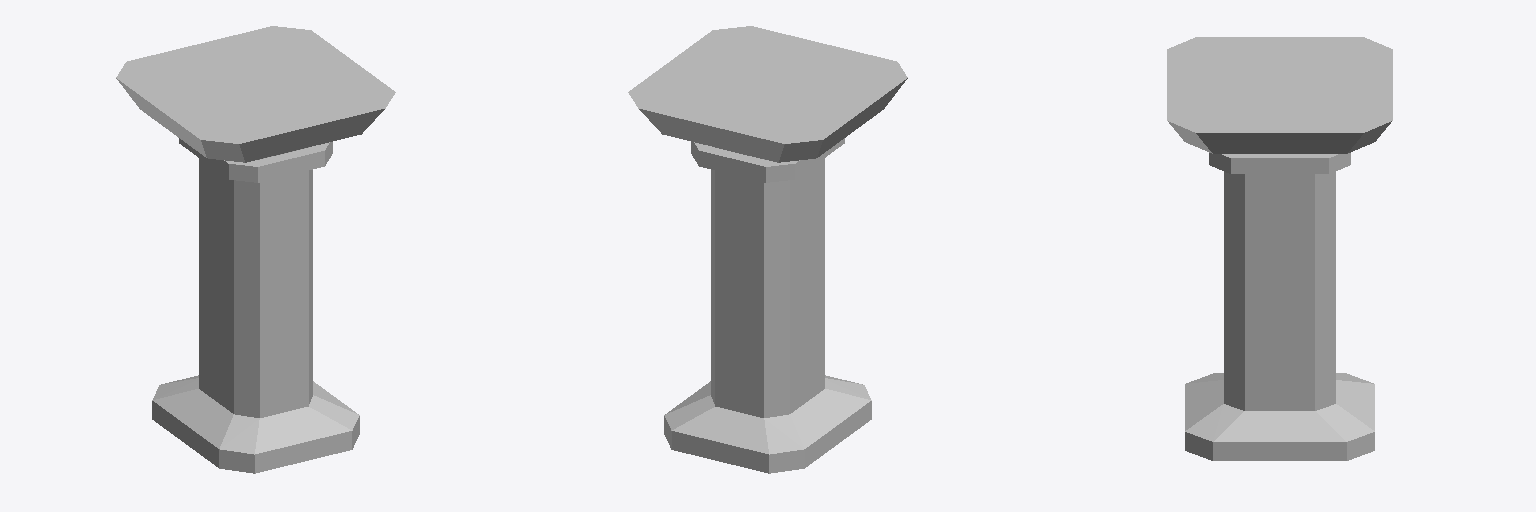
3 views of the same model, side by side, from view 1: azimuth 30°, elevation 25°; view 2: azimuth 150°, elevation 25°; view 3: azimuth 270°, elevation 25° (orthographic).
Parts seen in each view (by area): view 1: runescapemodel; view 2: runescapemodel; view 3: runescapemodel.
Boxes of the visible parts, x1,y1,x2,y2 form: runescapemodel: [116, 26, 395, 473]; runescapemodel: [628, 26, 907, 473]; runescapemodel: [1167, 37, 1392, 460].
Size of the model in its own units: 64 by 107 by 64.